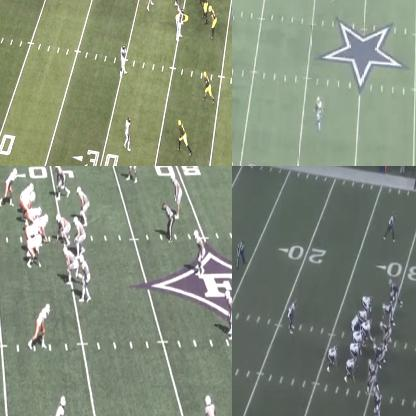CENTER: (34, 214, 50, 240), (364, 318, 374, 343)
DB: (194, 241, 208, 279), (171, 176, 182, 211), (224, 286, 231, 338), (314, 95, 324, 130), (203, 393, 216, 415), (124, 115, 132, 150), (373, 385, 381, 415), (128, 166, 139, 185), (120, 43, 126, 76)
LB: (79, 252, 91, 300), (76, 185, 90, 220), (73, 214, 85, 252), (176, 7, 184, 37), (148, 0, 154, 8)
QB: (351, 310, 360, 331)
SKILL: (32, 304, 50, 348), (48, 393, 72, 415), (178, 120, 192, 157), (2, 168, 17, 202), (204, 72, 214, 104), (390, 277, 400, 306), (345, 355, 356, 378), (387, 212, 396, 240), (208, 5, 218, 30), (367, 358, 376, 385), (288, 300, 296, 330), (328, 343, 336, 369), (20, 182, 35, 193)
